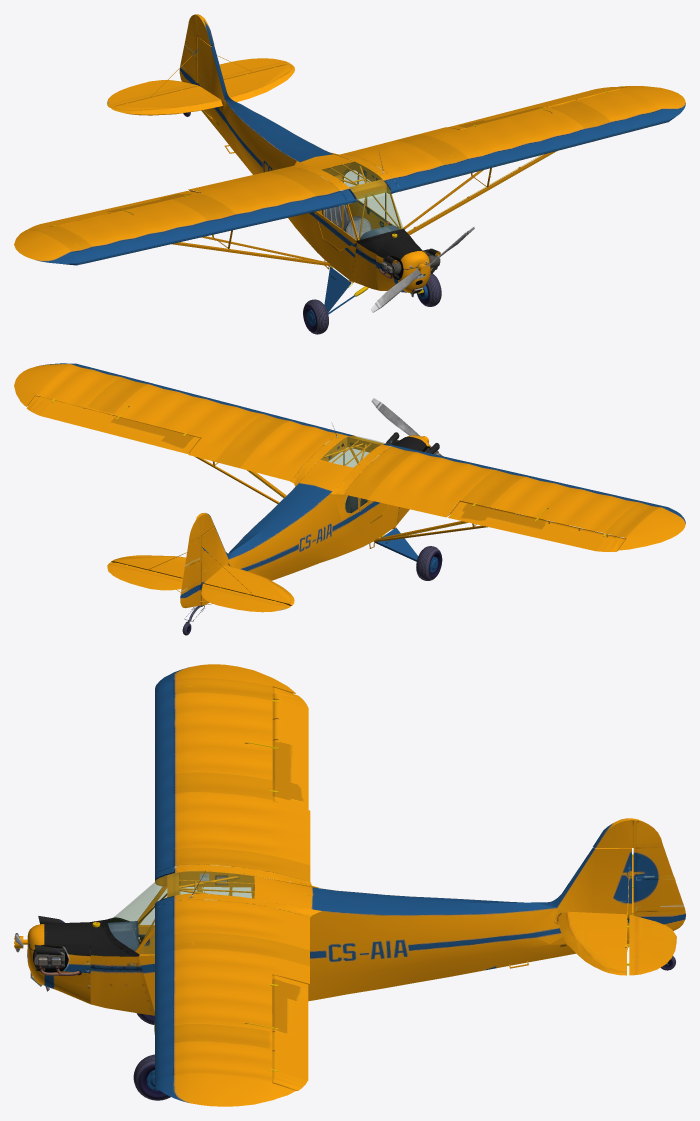
Rendered from lite-blue.gltf.
3 views of the same model, one above another, from view 1: azimuth 30°, elevation 25°; view 2: azimuth 150°, elevation 25°; view 3: azimuth 270°, elevation 25° (orthographic). The views are drawn at different scales.
Parts seen in each view (by area): view 1: Exterior, XLive_4, XLive_5, XLive_0, XLive_1; view 2: Exterior, XLive_0, XLive_1, XLive_4, XLive_5; view 3: Exterior, XLive_5, XLive_1, XLive_0, XLive_4.
Boxes of the visible parts, x1,y1,x2,y2 form: Exterior: [14, 37, 685, 334]; XLive_4: [107, 58, 290, 107]; XLive_5: [179, 14, 214, 84]; XLive_0: [448, 87, 624, 129]; XLive_1: [27, 191, 199, 230]; Exterior: [14, 363, 685, 621]; XLive_0: [26, 395, 200, 453]; XLive_1: [448, 502, 625, 551]; XLive_4: [107, 562, 290, 612]; XLive_5: [180, 513, 214, 608]; Exterior: [14, 664, 633, 1106]; XLive_5: [593, 818, 685, 930]; XLive_1: [272, 687, 308, 809]; XLive_0: [272, 975, 308, 1090]; XLive_4: [629, 854, 676, 975].
Size of the model in its own units: 10.65 by 2.73 by 6.86.
Materials: 73 (61 with a texture image).
